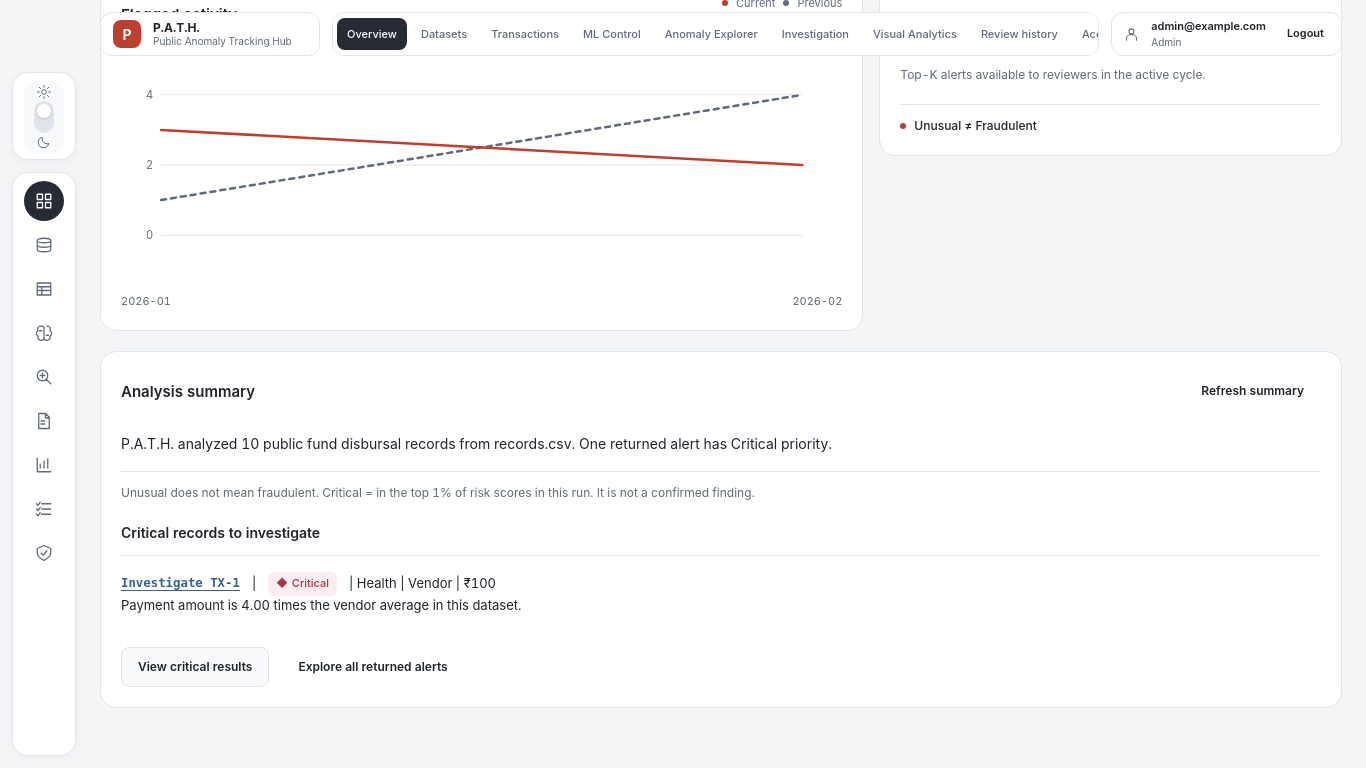
Test: guided analysis and human review › takes a critical finding through investigation to recorded history
The width and height of the screenshot is (1366, 768).
(page scrolled)
Expected: the text "P.A.T.H. analyzed 10 public fund" is shown, [121,434,832,452]
Expected: the text "4.00 times the vendor average" is shown, [121,597,522,613]
Click the link "Investigate TX-1": point(180, 584) [121,574,240,593]
(page scrolled)
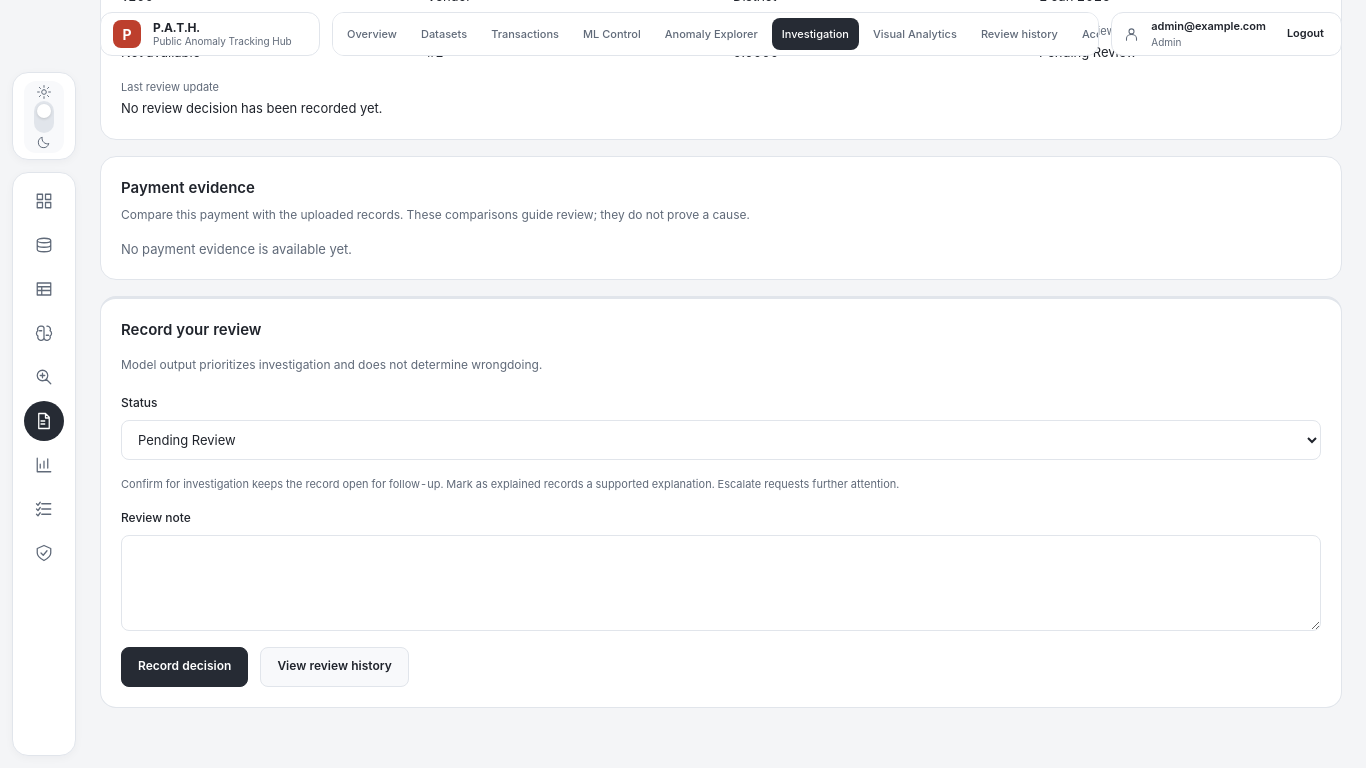
Select "Mark as explained" in the dropdown labelled "Status": point(721, 440) [121,420,1321,460]
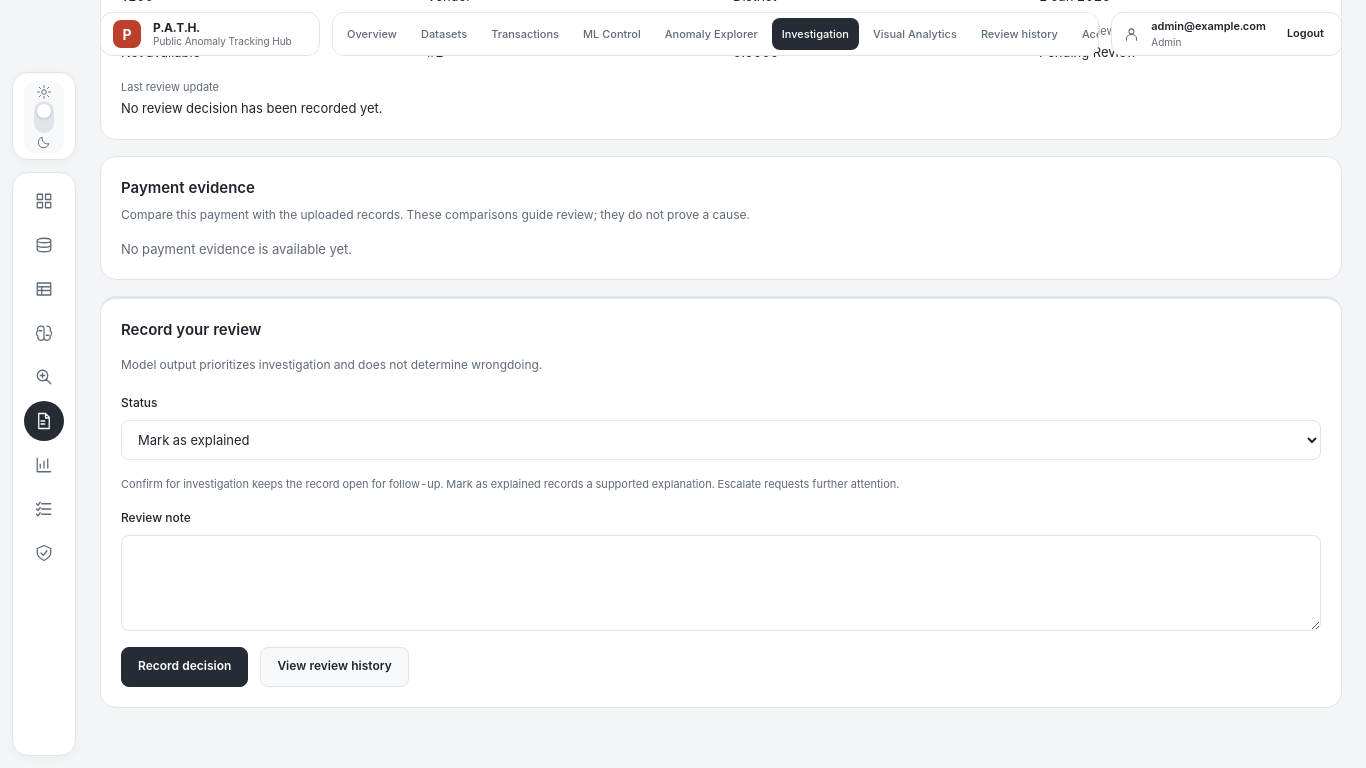
In the text box labelled "Review note": point(721, 582) [121,534,1321,630], type "Verified the source invoice."
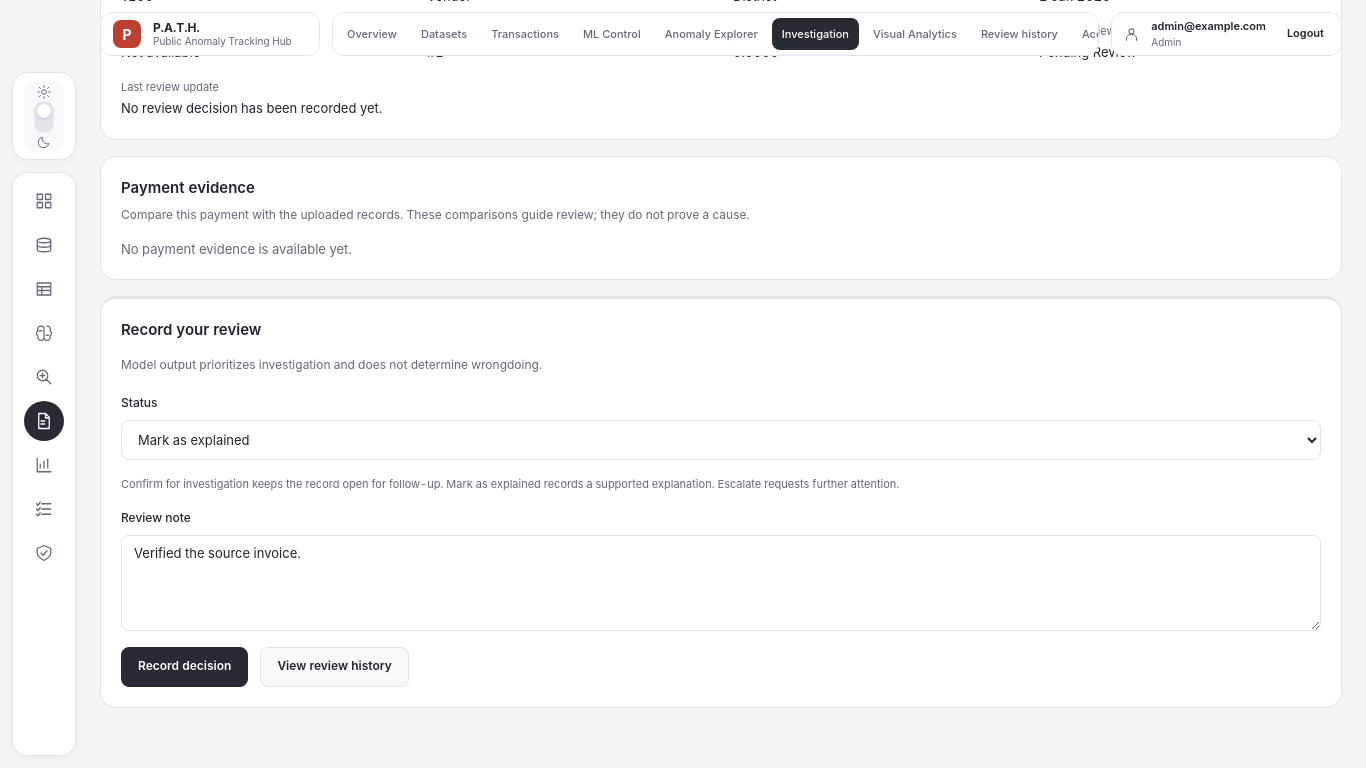
Click the button "Record decision": point(185, 666) [121,646,248,686]
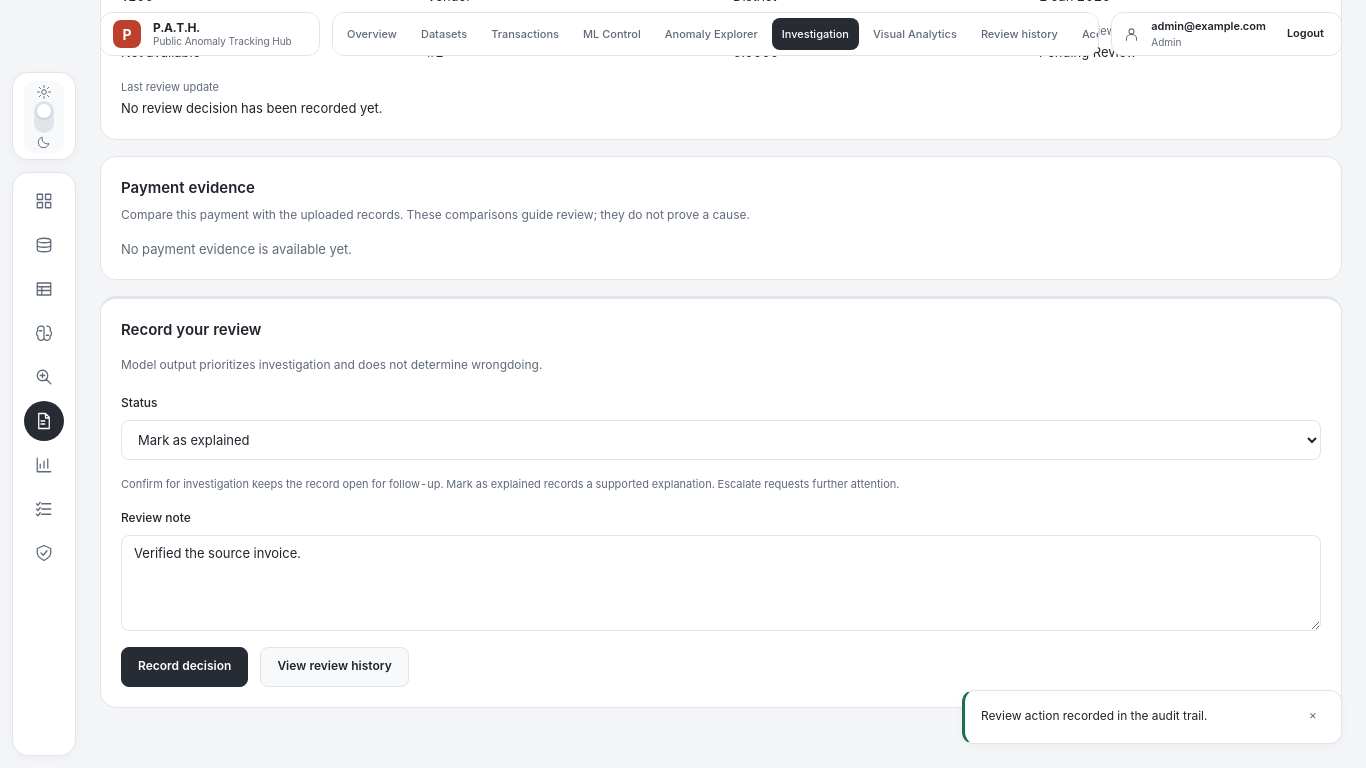
Expected: the text "Review action recorded in the audit trail." is shown, [981,707,1207,725]
Click the link "View review history": point(335, 666) [260,646,409,686]
(page scrolled)
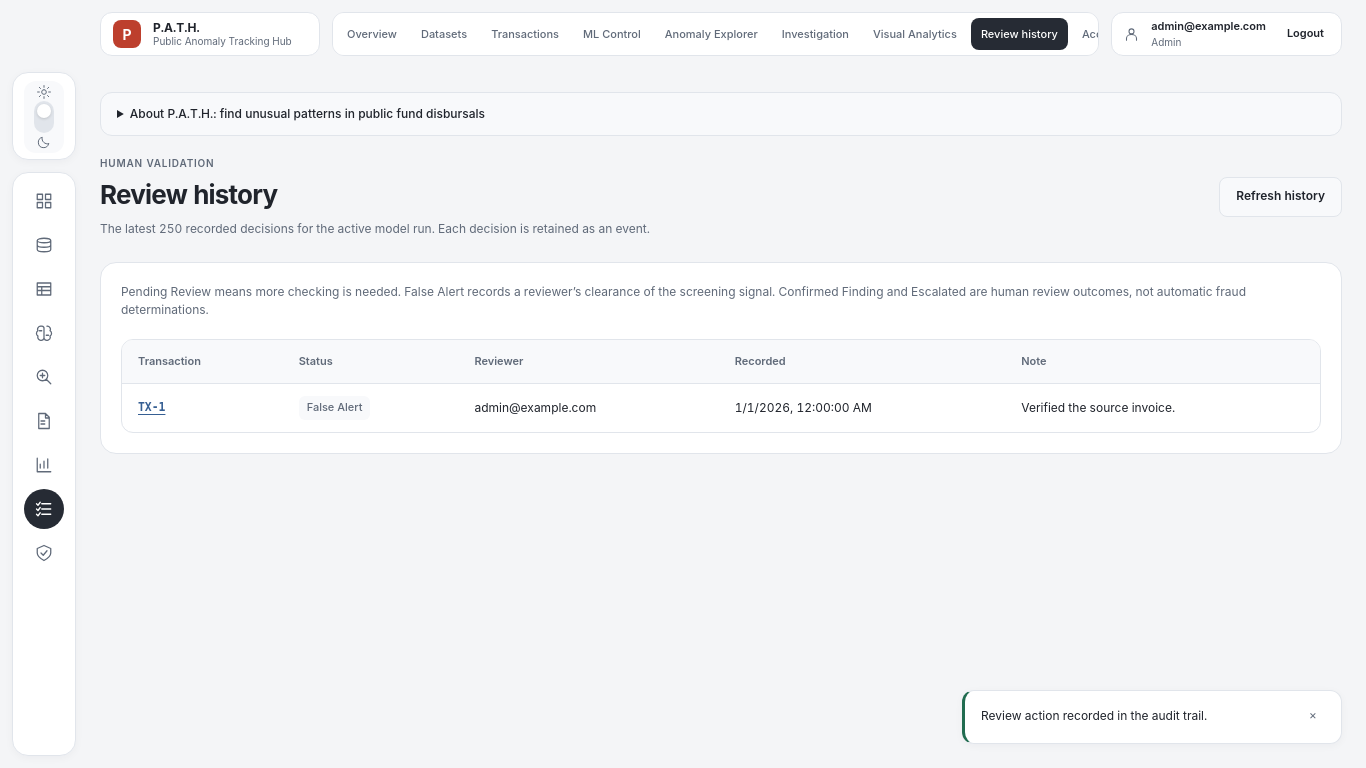
Expected: the text "Verified the source invoice." is shown, [1005,384,1320,432]
Expected: the text "False Alert" is shown, [299,396,370,420]
Click the link "TX-1": point(152, 407) [138,400,165,414]
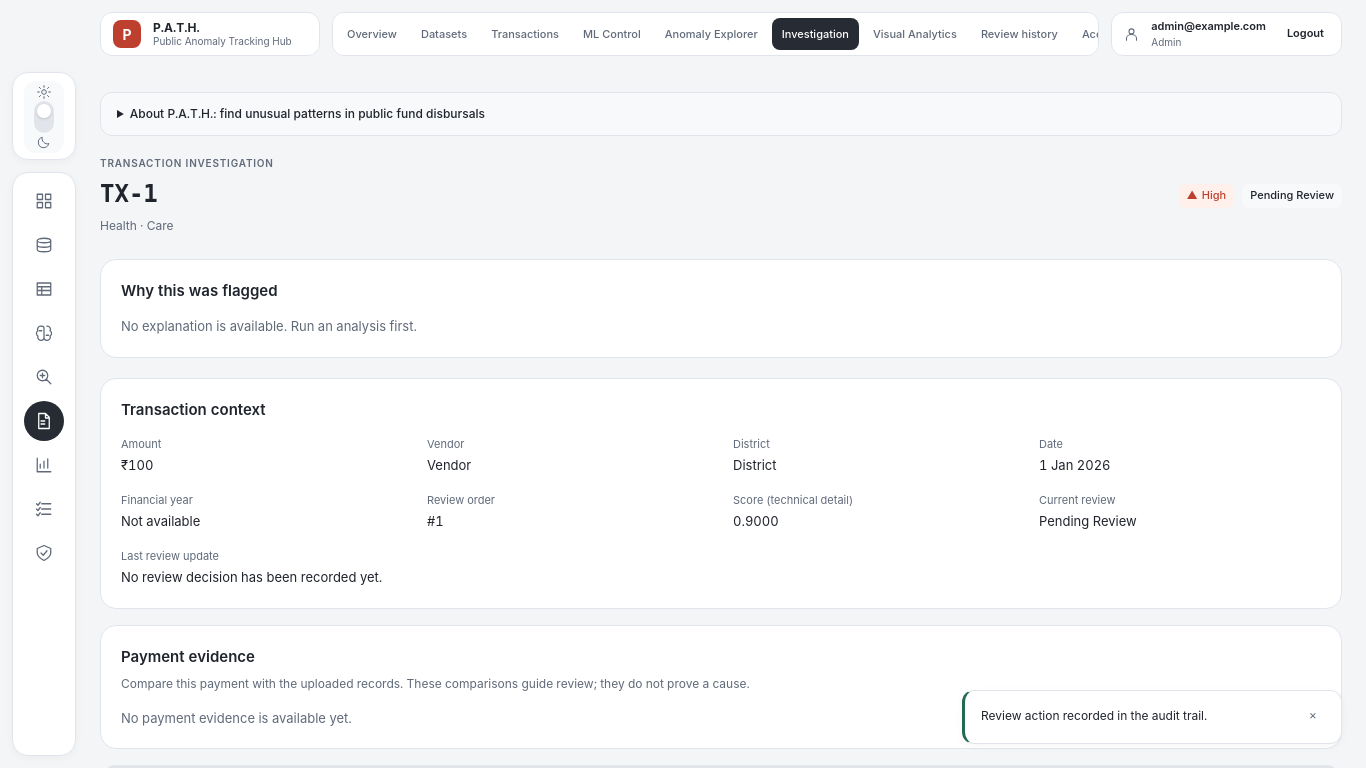
Expected: the heading "Transaction context" is shown, [121,400,266,418]
